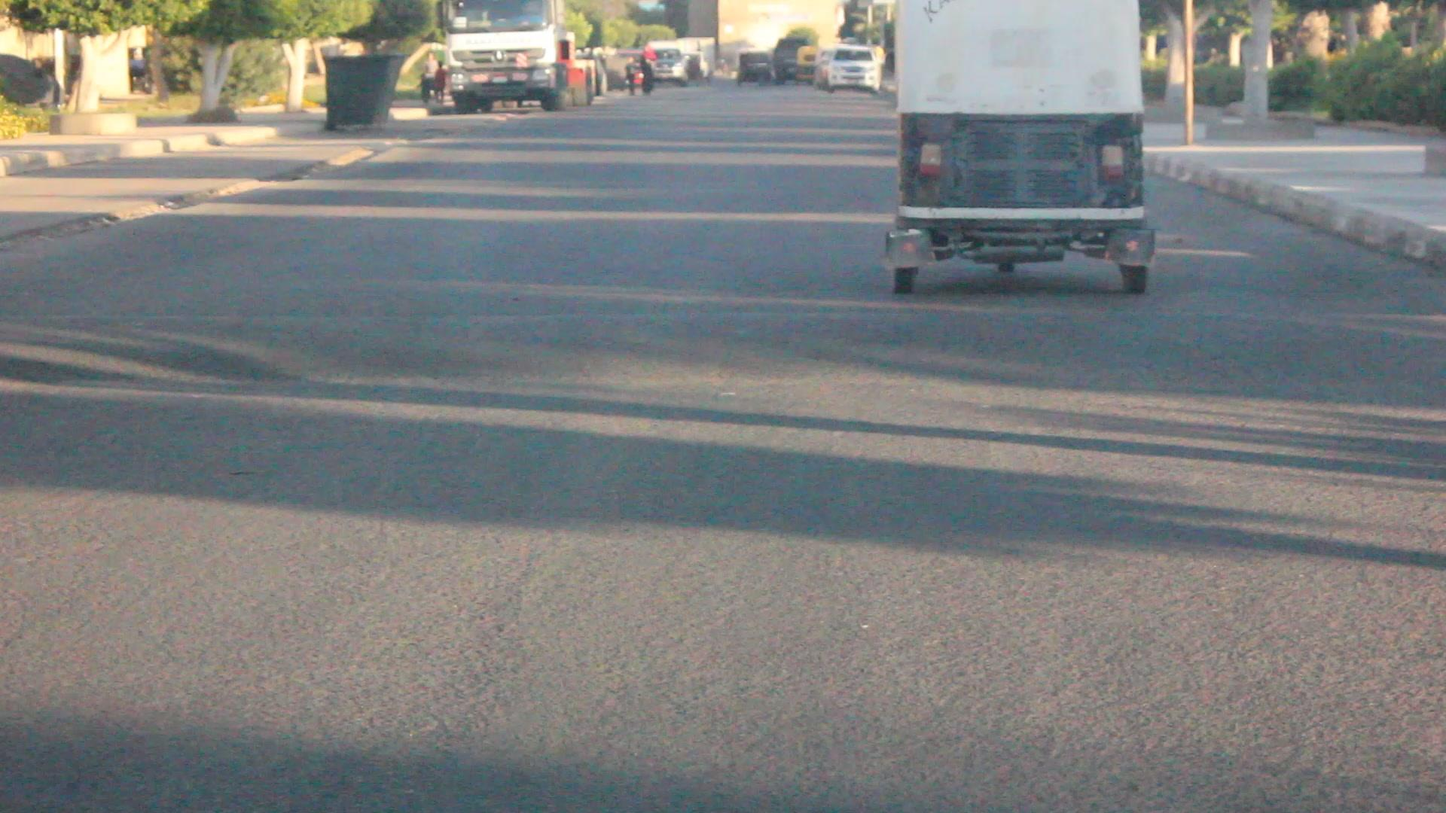Bump: (0, 303, 1446, 391)
